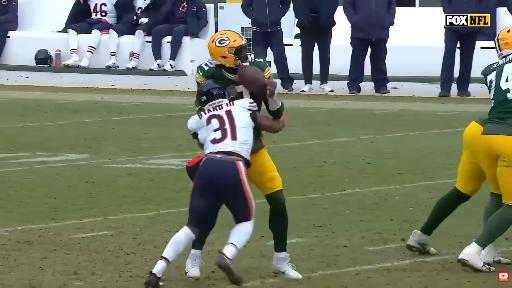Helmet: (208, 31, 249, 66), (196, 80, 227, 109), (495, 26, 512, 60), (35, 49, 53, 66)
Jersey: (188, 99, 257, 160), (482, 55, 511, 135), (196, 62, 238, 89), (196, 62, 238, 87), (89, 0, 117, 24), (134, 0, 150, 15), (475, 118, 487, 126)
Player: (145, 81, 283, 287), (458, 27, 511, 271), (406, 118, 501, 254), (248, 134, 302, 279), (63, 0, 130, 68), (106, 0, 164, 69)
